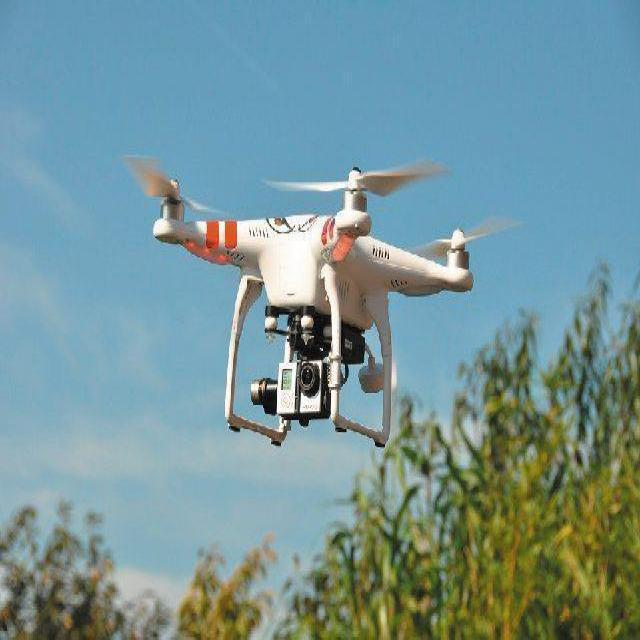UAV: (148, 160, 470, 450)
